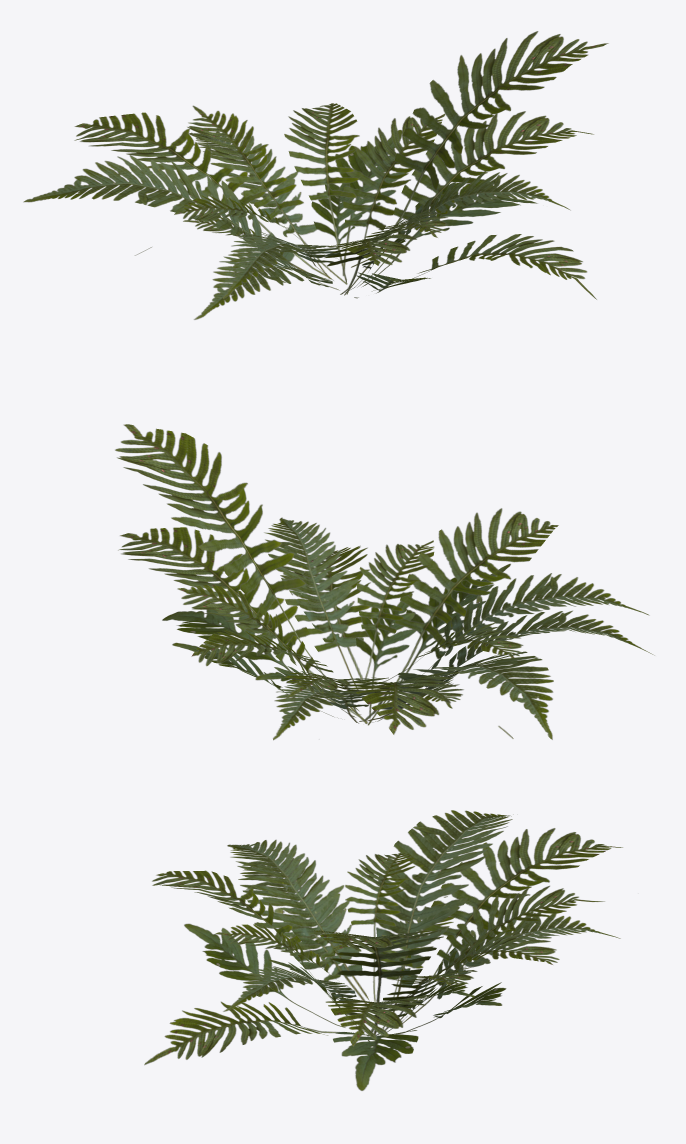
The picture shows the model from 3 angles, top to bottom: view 1: azimuth 30°, elevation 25°; view 2: azimuth 150°, elevation 25°; view 3: azimuth 270°, elevation 25°; orthographic projection. The views are drawn at different scales.
Visible parts, largest first — view 1: Plane; view 2: Plane; view 3: Plane.
Part boxes in pixels (x1,y1,x2,y2): Plane: (23, 31, 608, 319); Plane: (115, 424, 654, 740); Plane: (144, 810, 622, 1090).
Bounding box in the file's own units: 1.42 × 0.4787 × 1.35.
1 material, 1 textured.
